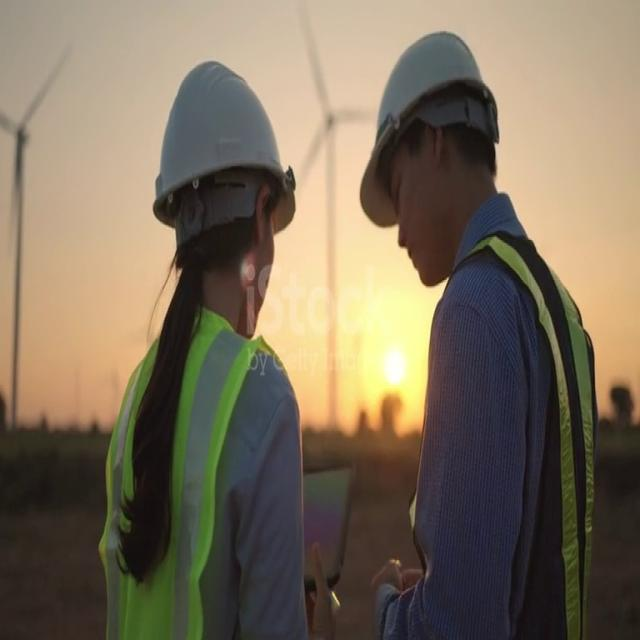capacete: (150, 48, 304, 249), (352, 26, 506, 224)
